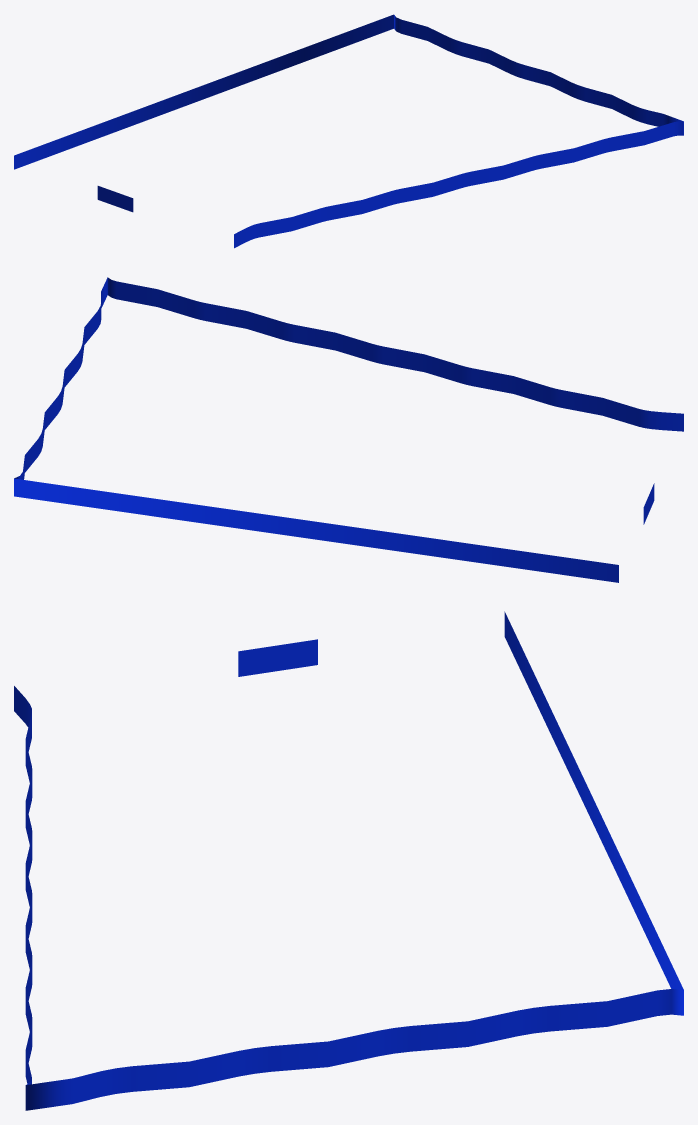
The model's file is Vent Barrier.fbx.
3 renders of one model, top to bottom at view 1: azimuth 30°, elevation 25°; view 2: azimuth 150°, elevation 25°; view 3: azimuth 270°, elevation 25°, orthographic. The views are drawn at different scales.
Parts seen in each view (by area): view 1: Plane.026; view 2: Plane.026; view 3: Plane.026.
Boxes of the visible parts, x1,y1,x2,y2 form: Plane.026: (14, 14, 683, 248); Plane.026: (14, 277, 683, 582); Plane.026: (14, 611, 683, 1110).
Size of the model in its own units: 3985 by 101 by 2380.
